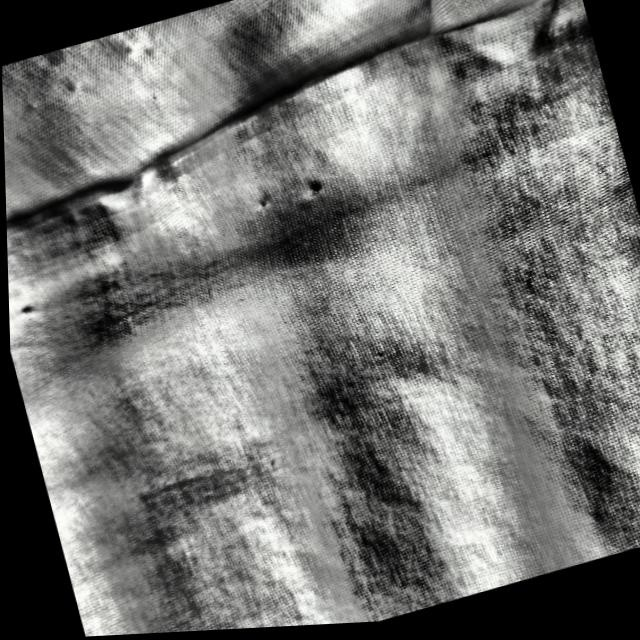Hole: (8, 285, 52, 326), (248, 178, 289, 218), (243, 184, 283, 223), (293, 171, 334, 208), (298, 167, 337, 205)
